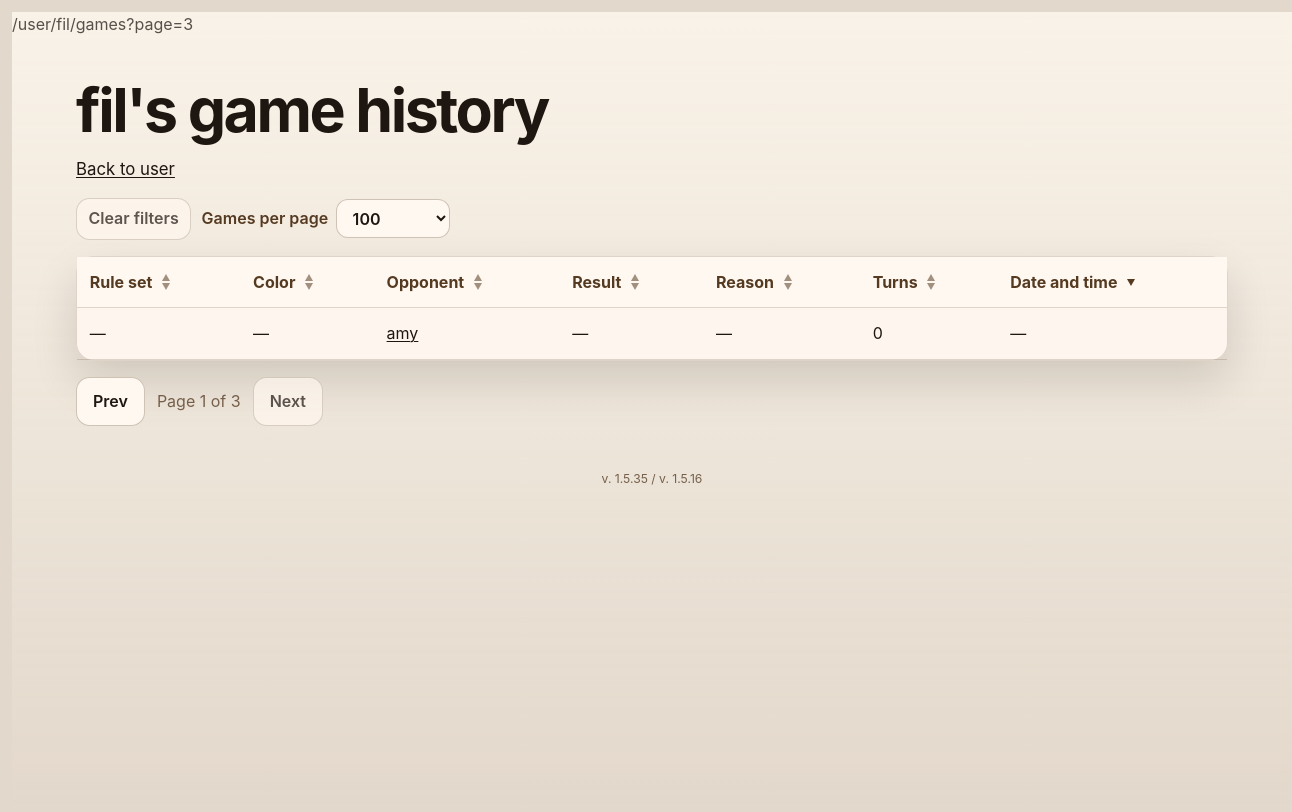
GameHistoryPage › changes_the_backend_page_size_from_the_toolbar
Expected: the link "amy" is shown, x1=387 y1=323 x2=418 y2=343
Select "1,000" in the dropdown labelled "Games per page" at point(393, 219), box x1=336 y1=199 x2=450 y2=238
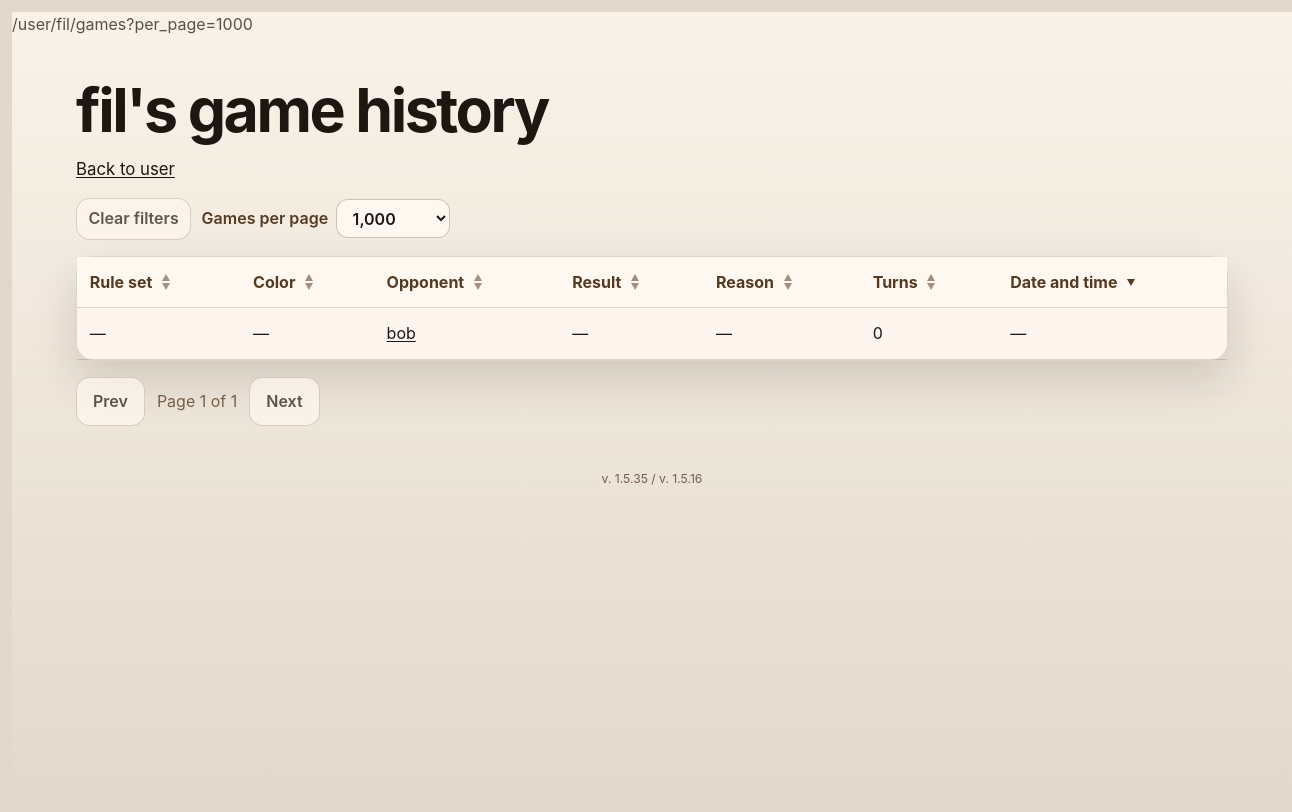
Now the link "bob" is shown, box x1=387 y1=323 x2=416 y2=343
Now the text with test id "location" shows "per_page=1000", box x1=126 y1=14 x2=253 y2=34
Now the text with test id "location" no longer shows "page=3", box x1=12 y1=14 x2=253 y2=34
